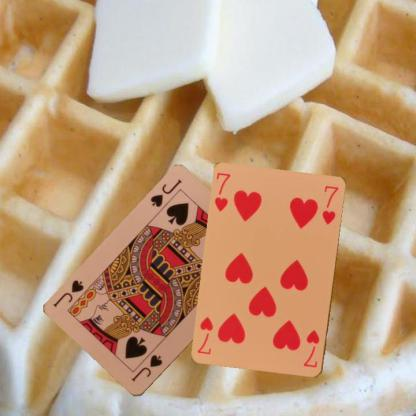7h: (301, 327, 321, 369), (212, 170, 232, 212)
Js: (147, 177, 184, 209), (128, 352, 164, 384)
